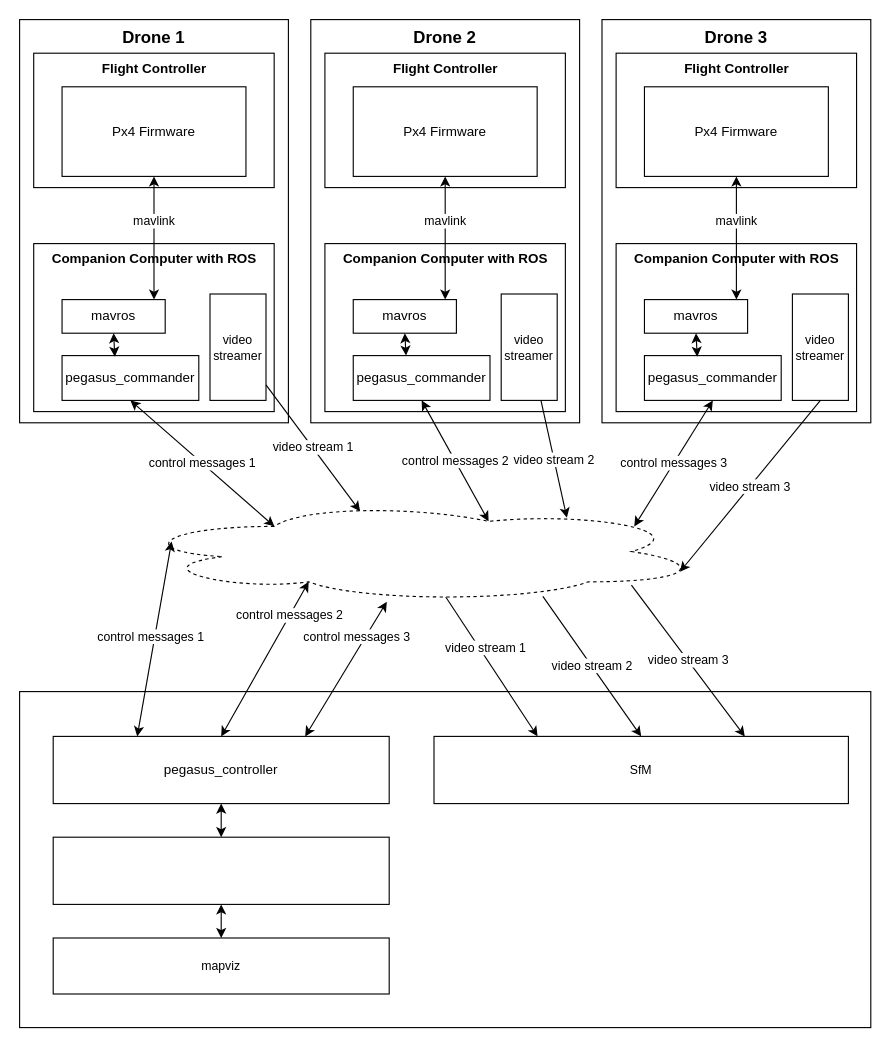
Image size: 890x1047. Some labels were removed from this diagram. Each missing label, with the box of its shape:
Ground Control Station with ROS: (18, 690, 871, 1028)
pegasus_planner: (52, 836, 389, 904)
Wireless Mesh Network (OSLR): (130, 500, 703, 602)
